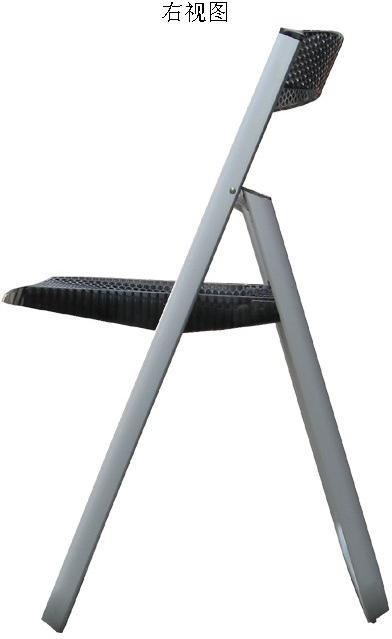obstacle: (42, 29, 387, 631)
